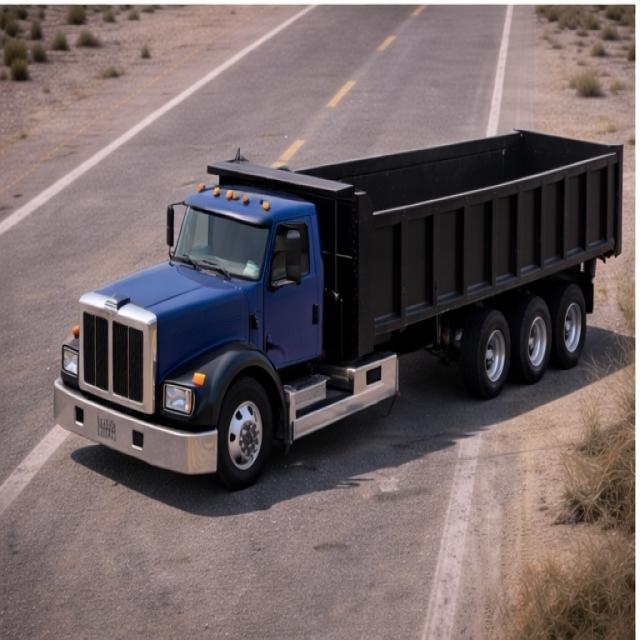Box: (215, 125, 619, 216)
Truck: (49, 96, 633, 483)
